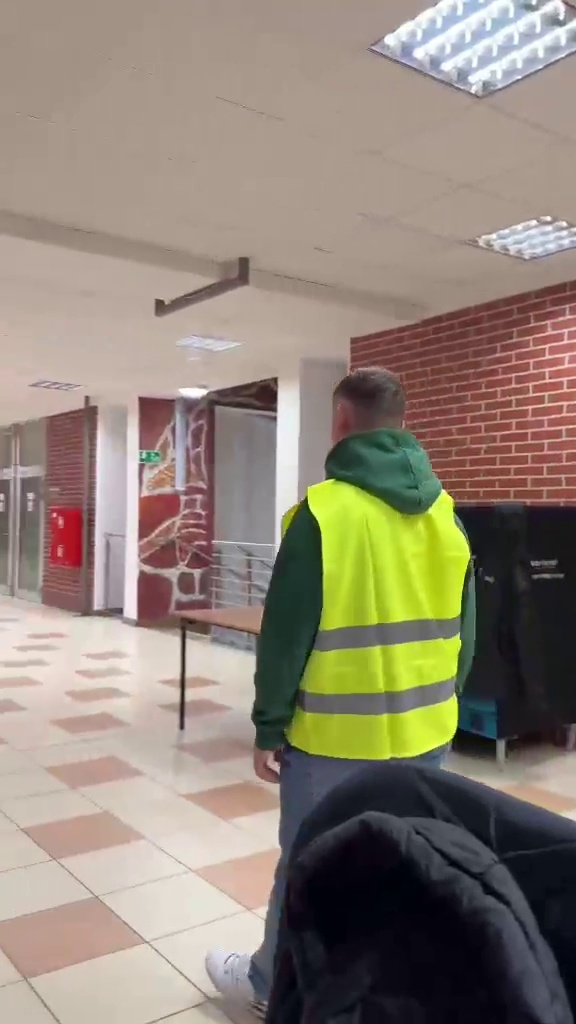vest: (218, 356, 462, 1000)
